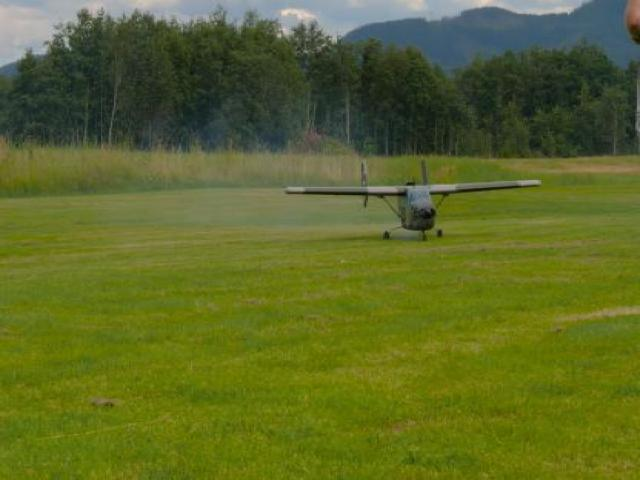uav: (280, 159, 543, 244)
